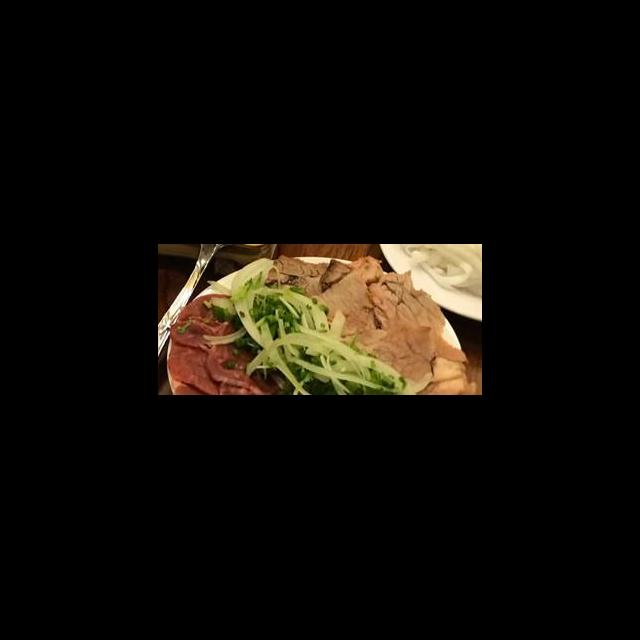banh pho: (401, 246, 480, 306)
thit bo: (363, 266, 447, 346), (336, 322, 442, 384), (304, 266, 380, 342), (168, 294, 261, 352), (202, 340, 285, 396), (261, 252, 333, 304), (165, 338, 227, 396), (316, 254, 388, 298)
